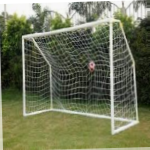goals: (18, 15, 140, 142)
